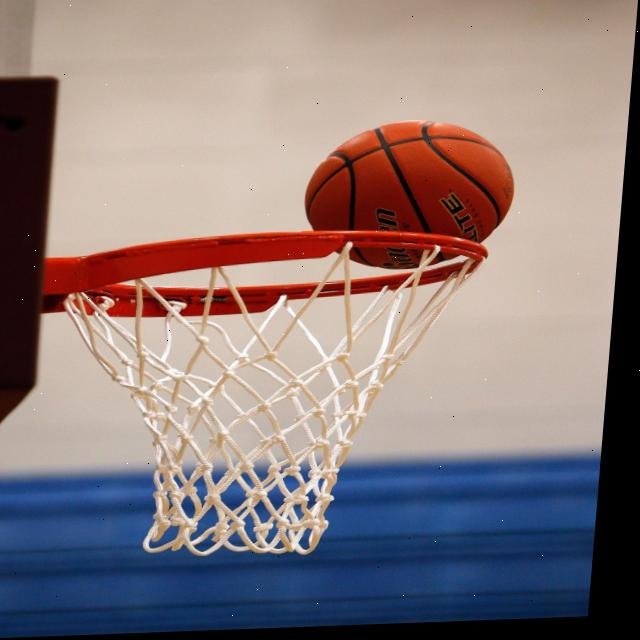basketball: (300, 117, 520, 274)
hoop: (47, 228, 495, 561)
